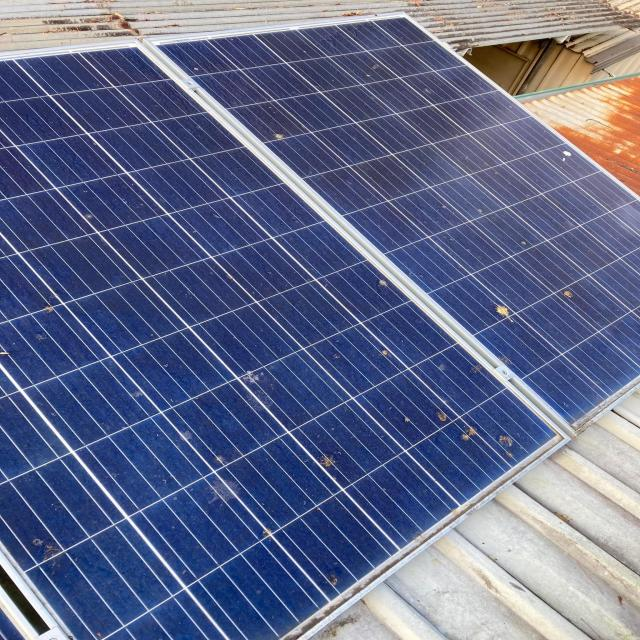dust-solar-panel: (152, 12, 640, 424)
